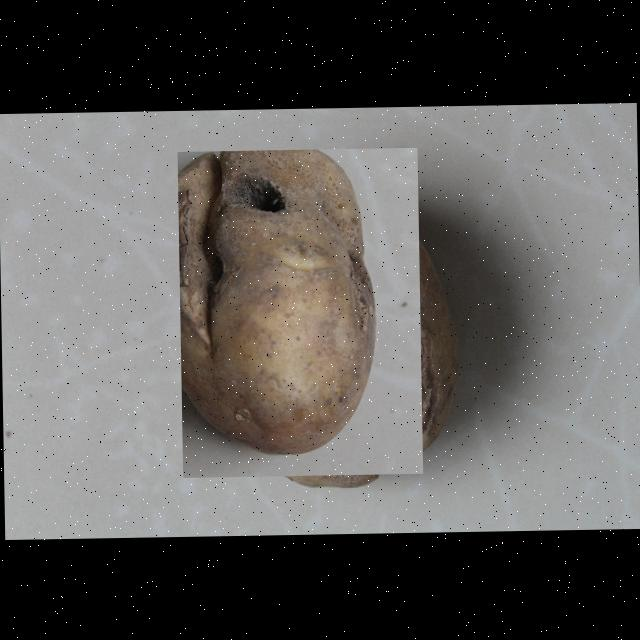Damaged potato: (176, 146, 422, 476)
